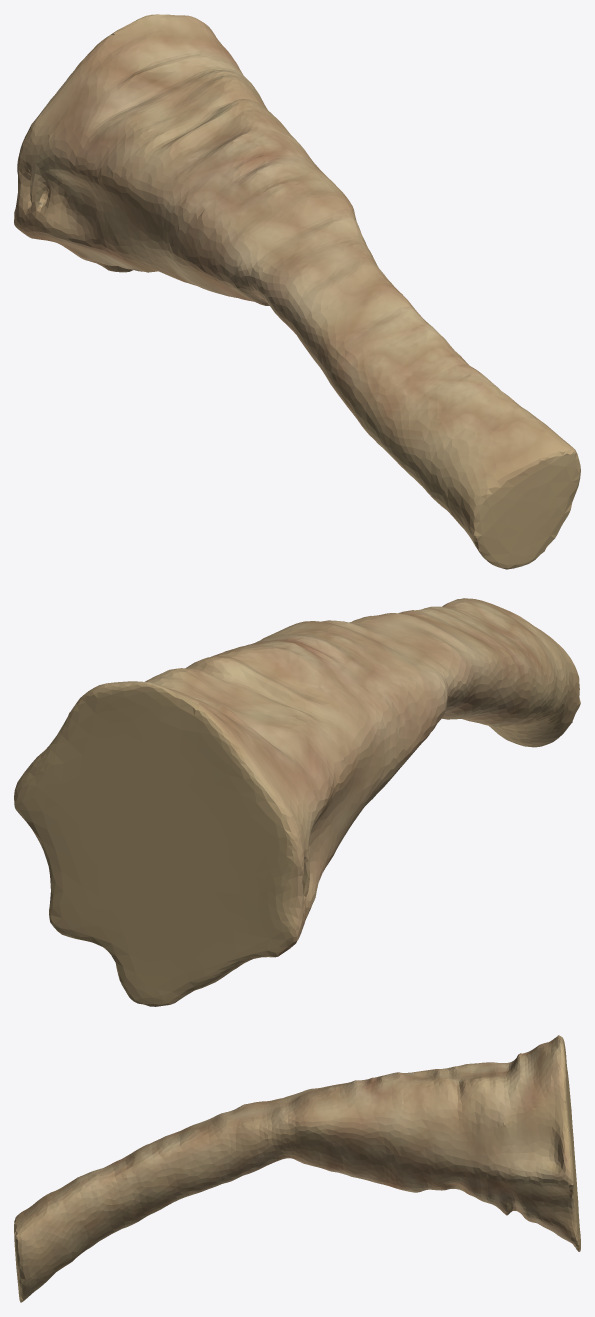
Rendered from Spinal_cord.obj.
The picture shows the model from 3 angles, top to bottom: view 1: azimuth 30°, elevation 25°; view 2: azimuth 150°, elevation 25°; view 3: azimuth 270°, elevation 25°; orthographic projection. The views are drawn at different scales.
Visible parts, largest first — view 1: Spinal_Cord_Textured_spinal_cord_(s); view 2: Spinal_Cord_Textured_spinal_cord_(s); view 3: Spinal_Cord_Textured_spinal_cord_(s).
Part boxes in pixels (x1=…): Spinal_Cord_Textured_spinal_cord_(s): x1=14, y1=14, x2=580, y2=569; Spinal_Cord_Textured_spinal_cord_(s): x1=14, y1=598, x2=580, y2=1006; Spinal_Cord_Textured_spinal_cord_(s): x1=14, y1=1035, x2=580, y2=1302.
Bounding box in the file's own units: 90.05 × 110 × 231.
Materials: 1 (1 with a texture image).
